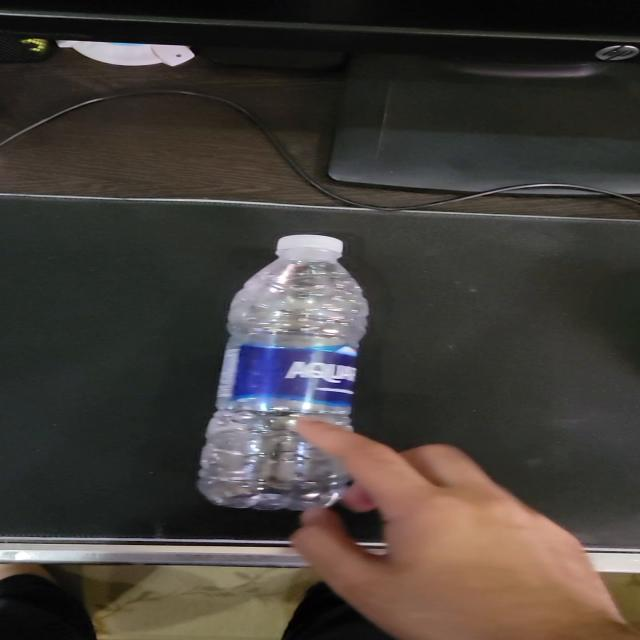Anorganik: (186, 233, 374, 515)
